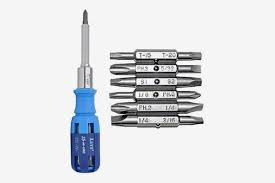screwdriver: (55, 4, 108, 178)
